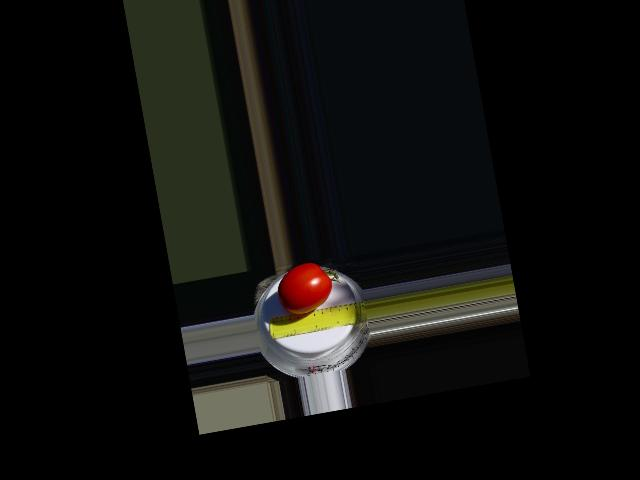tomato: (274, 259, 336, 318)
